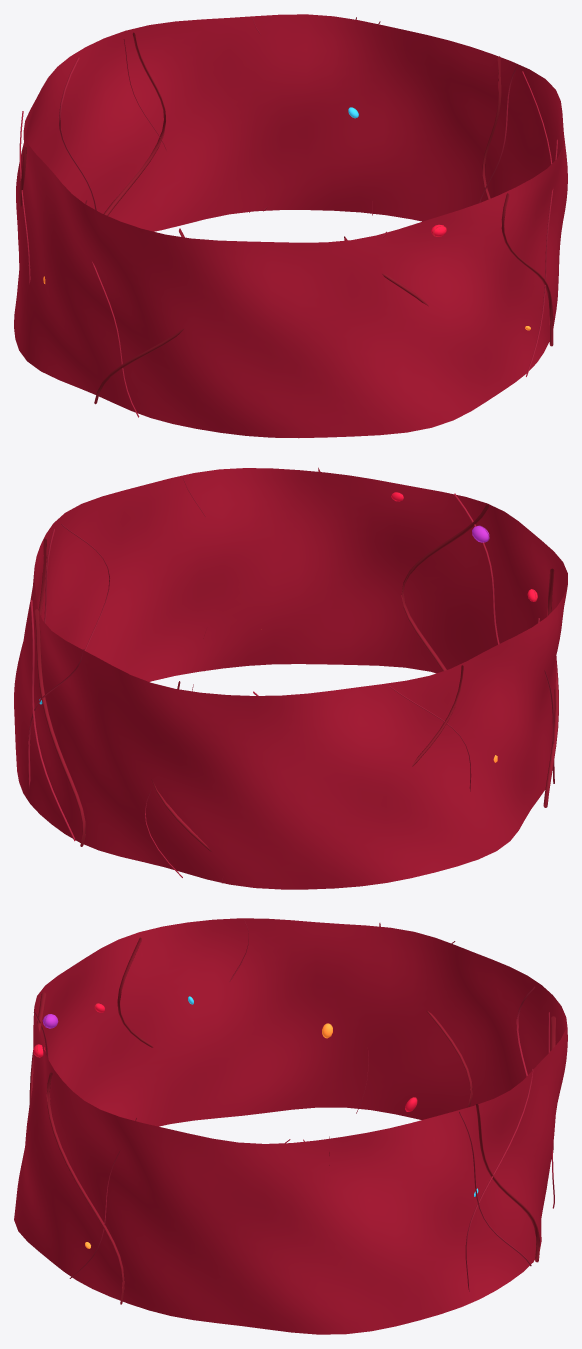
File: vessel_wall_breathing.glb
The picture shows the model from 3 angles, top to bottom: view 1: azimuth 30°, elevation 25°; view 2: azimuth 150°, elevation 25°; view 3: azimuth 270°, elevation 25°; orthographic projection. The views are drawn at different scales.
Parts seen in each view (by area): view 1: VesselWallBreathing, VesselFascicle_02, VesselFascicle_06; view 2: VesselWallBreathing, VesselFascicle_01, VesselFascicle_05, VesselFascicle_04, VesselFiber_08; view 3: VesselWallBreathing, VesselFascicle_06, VesselFascicle_01.
Part boxes in pixels (<box>): VesselWallBreathing: <box>14,14,567,438</box>; VesselFascicle_02: <box>103,32,166,215</box>; VesselFascicle_06: <box>501,193,553,346</box>; VesselWallBreathing: <box>14,468,567,889</box>; VesselFascicle_01: <box>34,609,85,846</box>; VesselFascicle_05: <box>401,504,488,671</box>; VesselFascicle_04: <box>543,568,558,807</box>; VesselFiber_08: <box>30,600,75,841</box>; VesselWallBreathing: <box>14,918,567,1334</box>; VesselFascicle_06: <box>46,1072,124,1304</box>; VesselFascicle_01: <box>476,1104,539,1262</box>.
Size of the model in its own units: 30.75 by 12.29 by 31.52.
